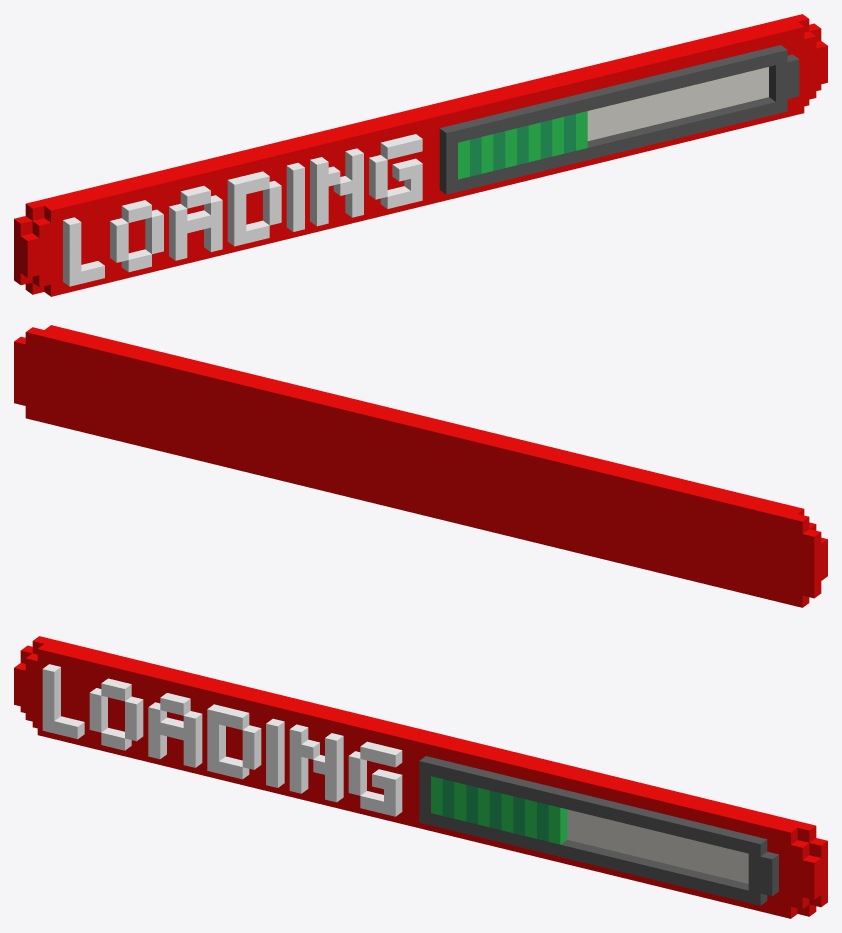
The model's file is loading_4.obj.
The picture shows the model from 3 angles, top to bottom: view 1: azimuth 30°, elevation 25°; view 2: azimuth 150°, elevation 25°; view 3: azimuth 330°, elevation 25°; orthographic projection.
Visible parts, largest first — view 1: loading_4; view 2: loading_4; view 3: loading_4.
Part boxes in pixels (box(x1,y1,x2,y2)): loading_4: box(14, 14, 827, 296); loading_4: box(14, 325, 827, 607); loading_4: box(14, 636, 827, 918).
Size of the model in its own units: 68 by 7 by 3.
1 material, 1 textured.
